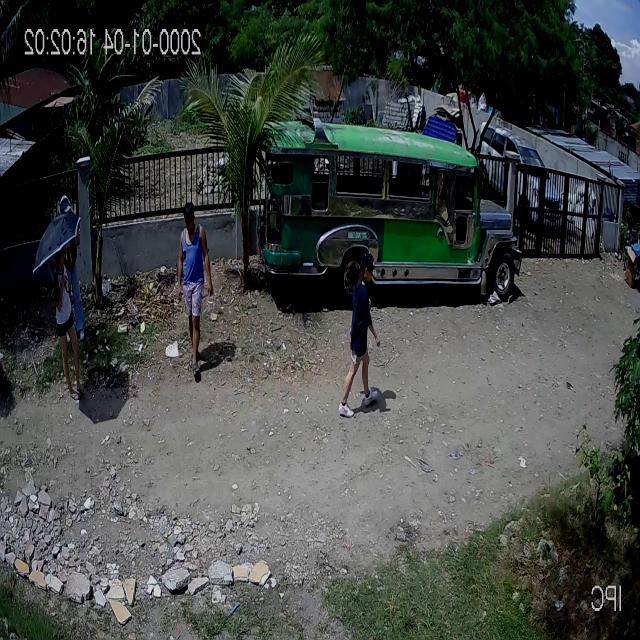standing: (54, 194, 86, 344)
walking: (175, 198, 215, 384), (338, 251, 377, 420), (52, 238, 82, 403)
